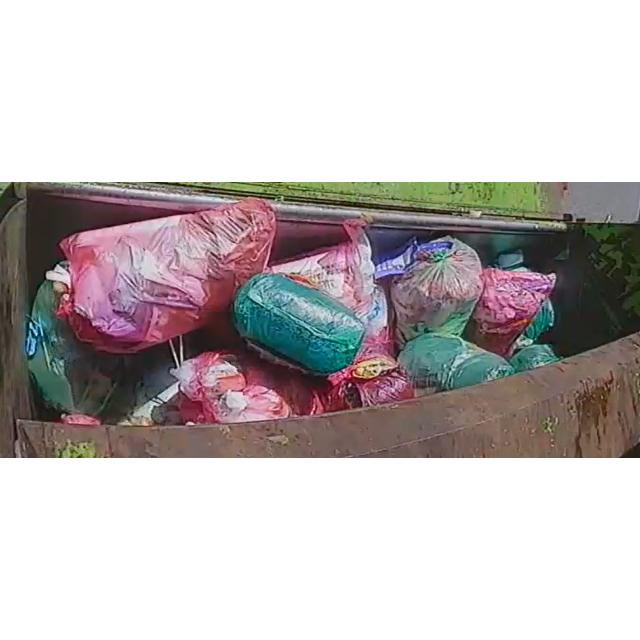general_trashbag: (234, 273, 364, 375), (26, 281, 122, 416), (390, 236, 482, 344), (399, 333, 514, 390)
other_trashbag: (60, 200, 276, 353), (170, 351, 326, 423), (466, 268, 556, 356)
